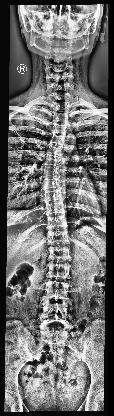Vertebrae: (42, 302, 70, 318), (44, 282, 70, 298), (47, 263, 71, 279), (49, 246, 70, 260), (48, 230, 68, 244), (52, 101, 70, 113), (47, 218, 67, 228), (44, 191, 62, 201), (46, 204, 64, 214), (45, 155, 61, 165), (44, 166, 60, 176), (44, 178, 60, 188), (48, 144, 63, 154), (54, 114, 68, 124), (53, 124, 66, 134), (51, 135, 66, 143)
